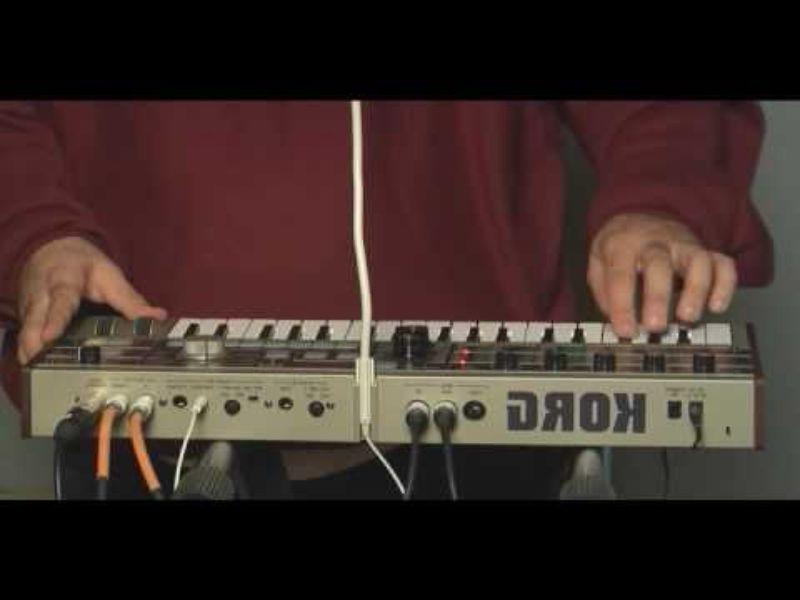synthesizer: (22, 279, 784, 471)
